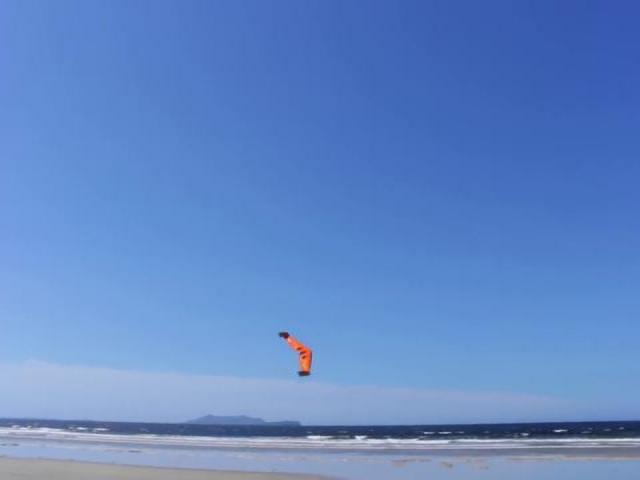flying wing: (277, 328, 315, 382)
